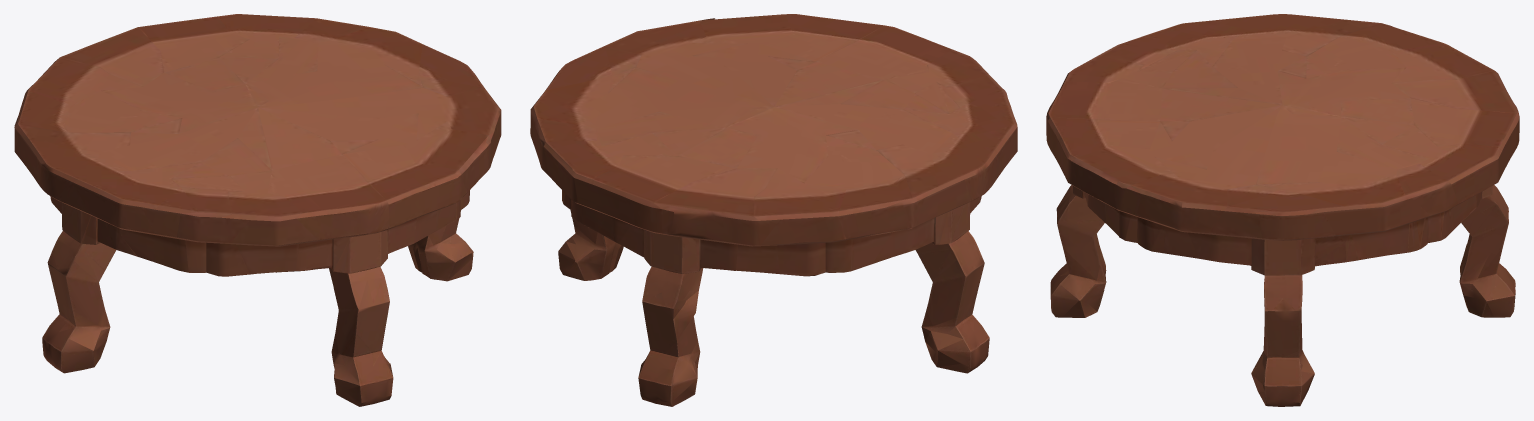
File: soban.glb
The picture shows the model from 3 angles, left to right: view 1: azimuth 30°, elevation 25°; view 2: azimuth 150°, elevation 25°; view 3: azimuth 270°, elevation 25°; orthographic projection. The views are drawn at different scales.
Visible parts, largest first — view 1: Mesh_0; view 2: Mesh_0; view 3: Mesh_0.
Part boxes in pixels (x1,y1,x2,y2): Mesh_0: [14, 14, 501, 406]; Mesh_0: [530, 14, 1017, 406]; Mesh_0: [1046, 14, 1519, 406].
Size of the model in its own units: 2 by 0.9588 by 2.
1 material, 1 textured.
